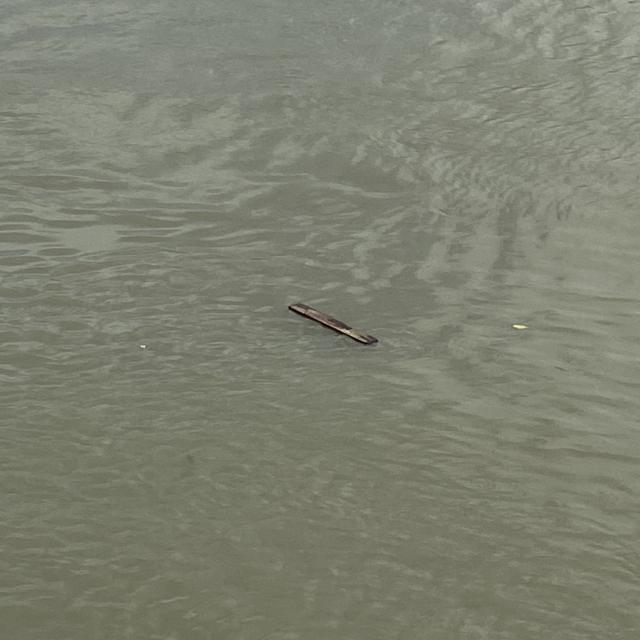Organic Debris: (253, 280, 400, 361)
Plastic: (508, 315, 545, 347), (130, 334, 161, 362)
